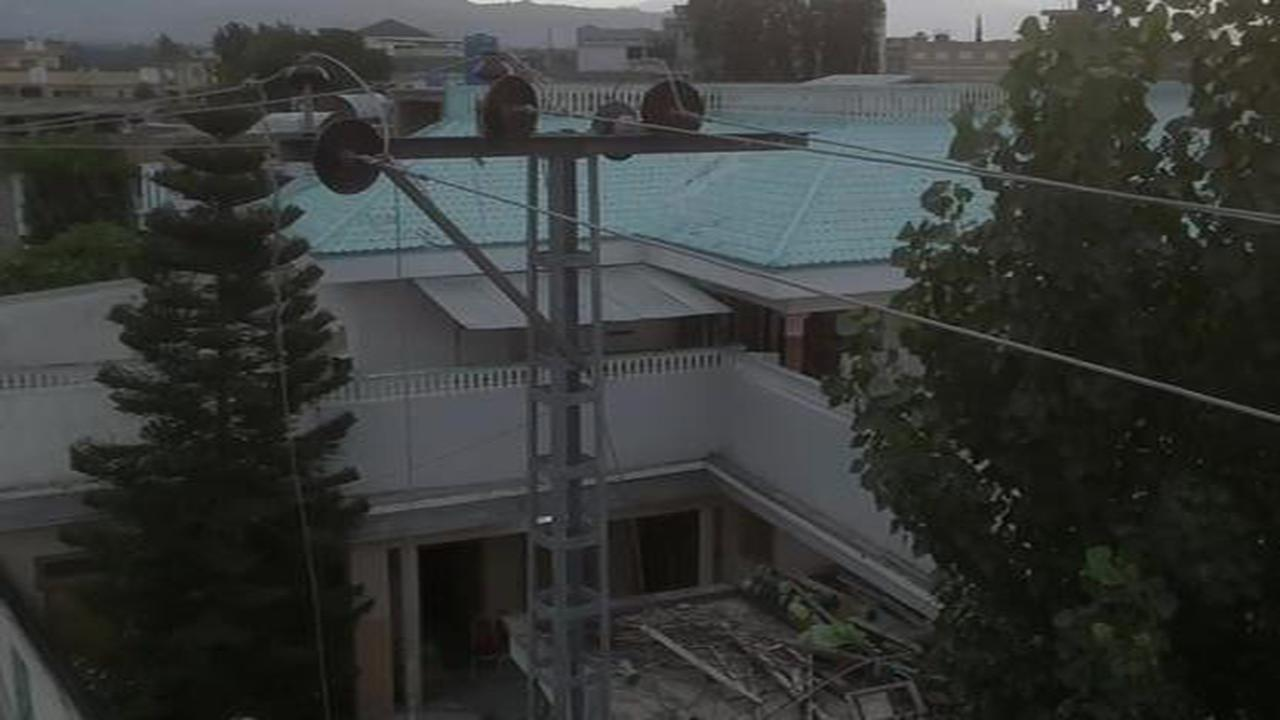insulator_disc: (312, 113, 390, 199), (639, 79, 708, 149), (482, 73, 543, 148)
insulator_pin: (283, 43, 334, 91)
